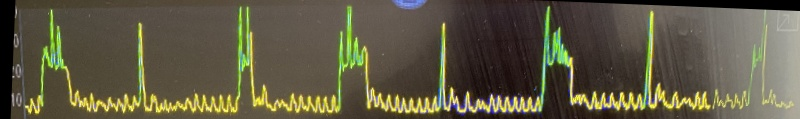hydrop_pressure: (18, 0, 796, 119)
